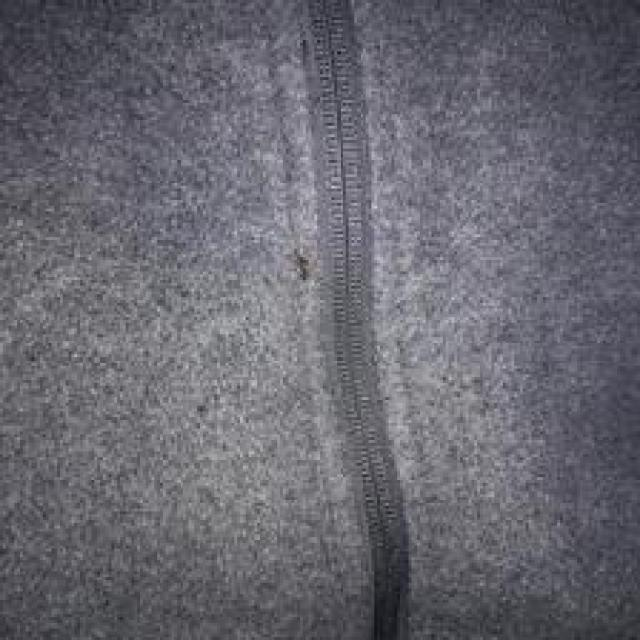Culex: (284, 0, 422, 640)
